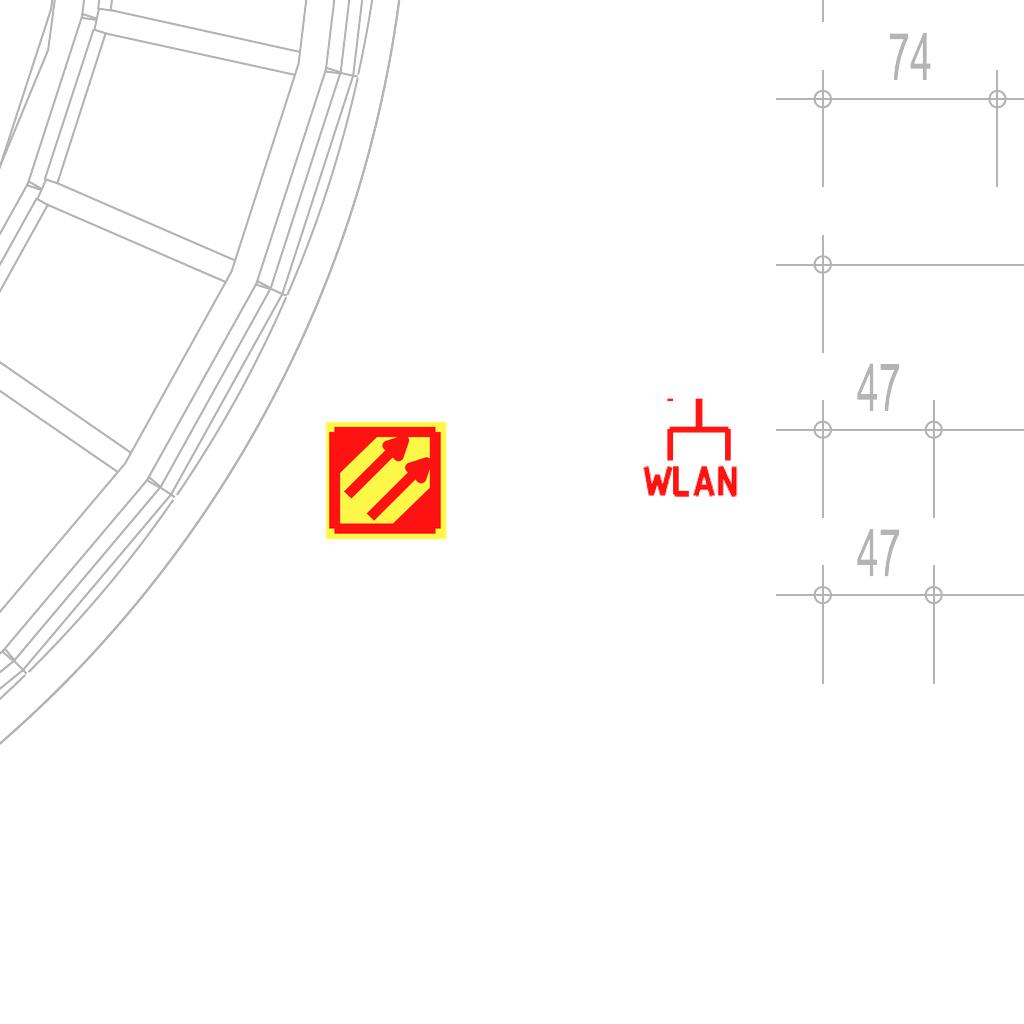ASR_Ansaugrauchmelder: (324, 418, 449, 543)
WLAN: (638, 394, 742, 499)
